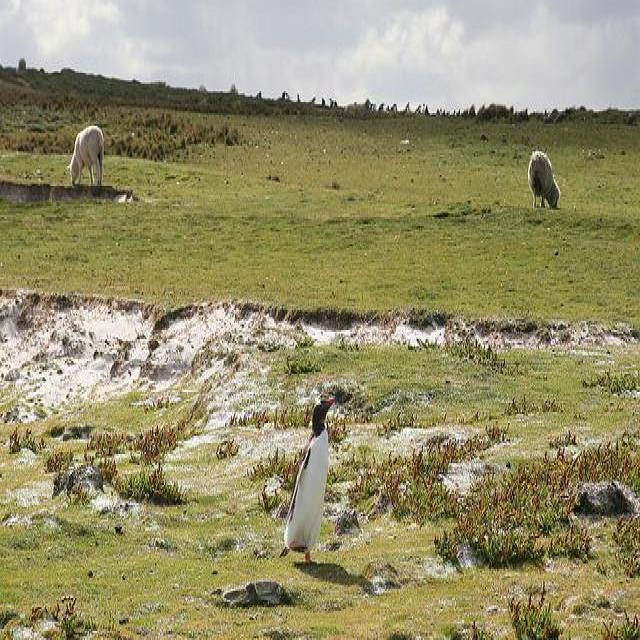Sheep: (65, 126, 104, 188)
